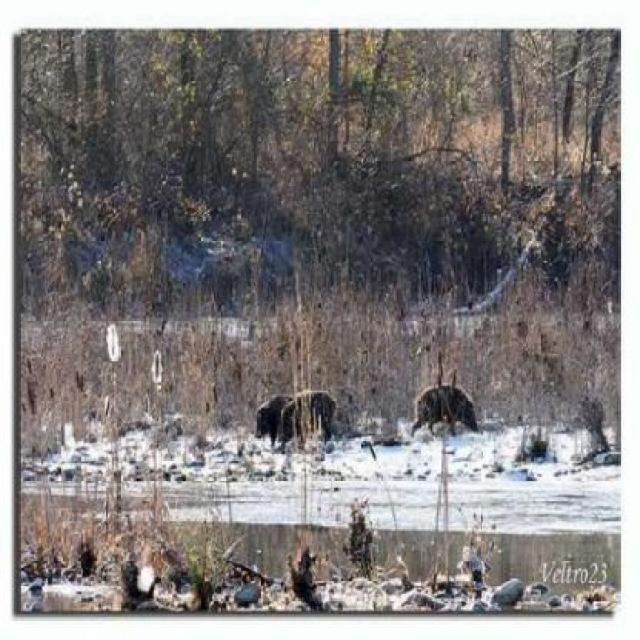pig: (406, 382, 505, 469), (245, 392, 336, 461), (277, 383, 342, 457)
